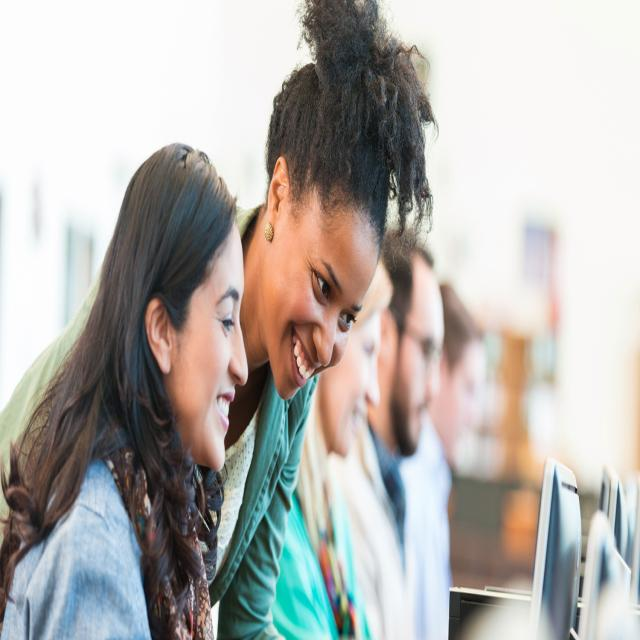adult: (203, 0, 438, 640), (0, 141, 249, 640), (276, 255, 397, 640), (358, 226, 445, 640)
